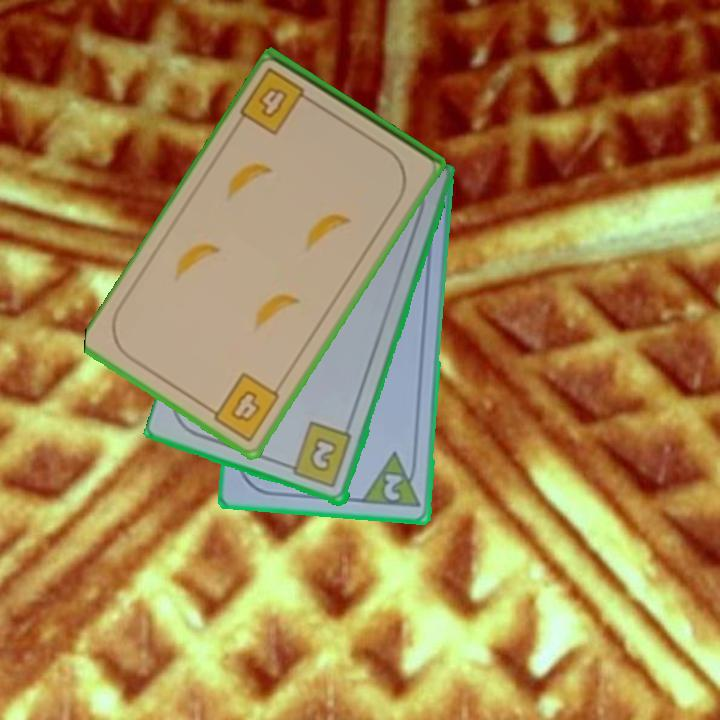2b: (281, 419, 355, 491)
2p: (380, 470, 406, 504)
4b: (203, 369, 283, 445), (237, 64, 319, 138)
